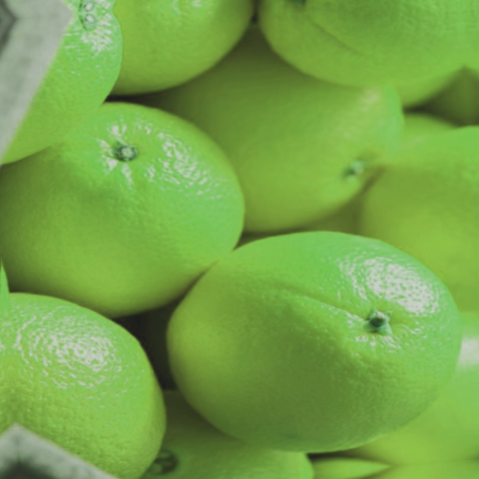orange: (145, 204, 479, 473), (0, 74, 282, 337)
